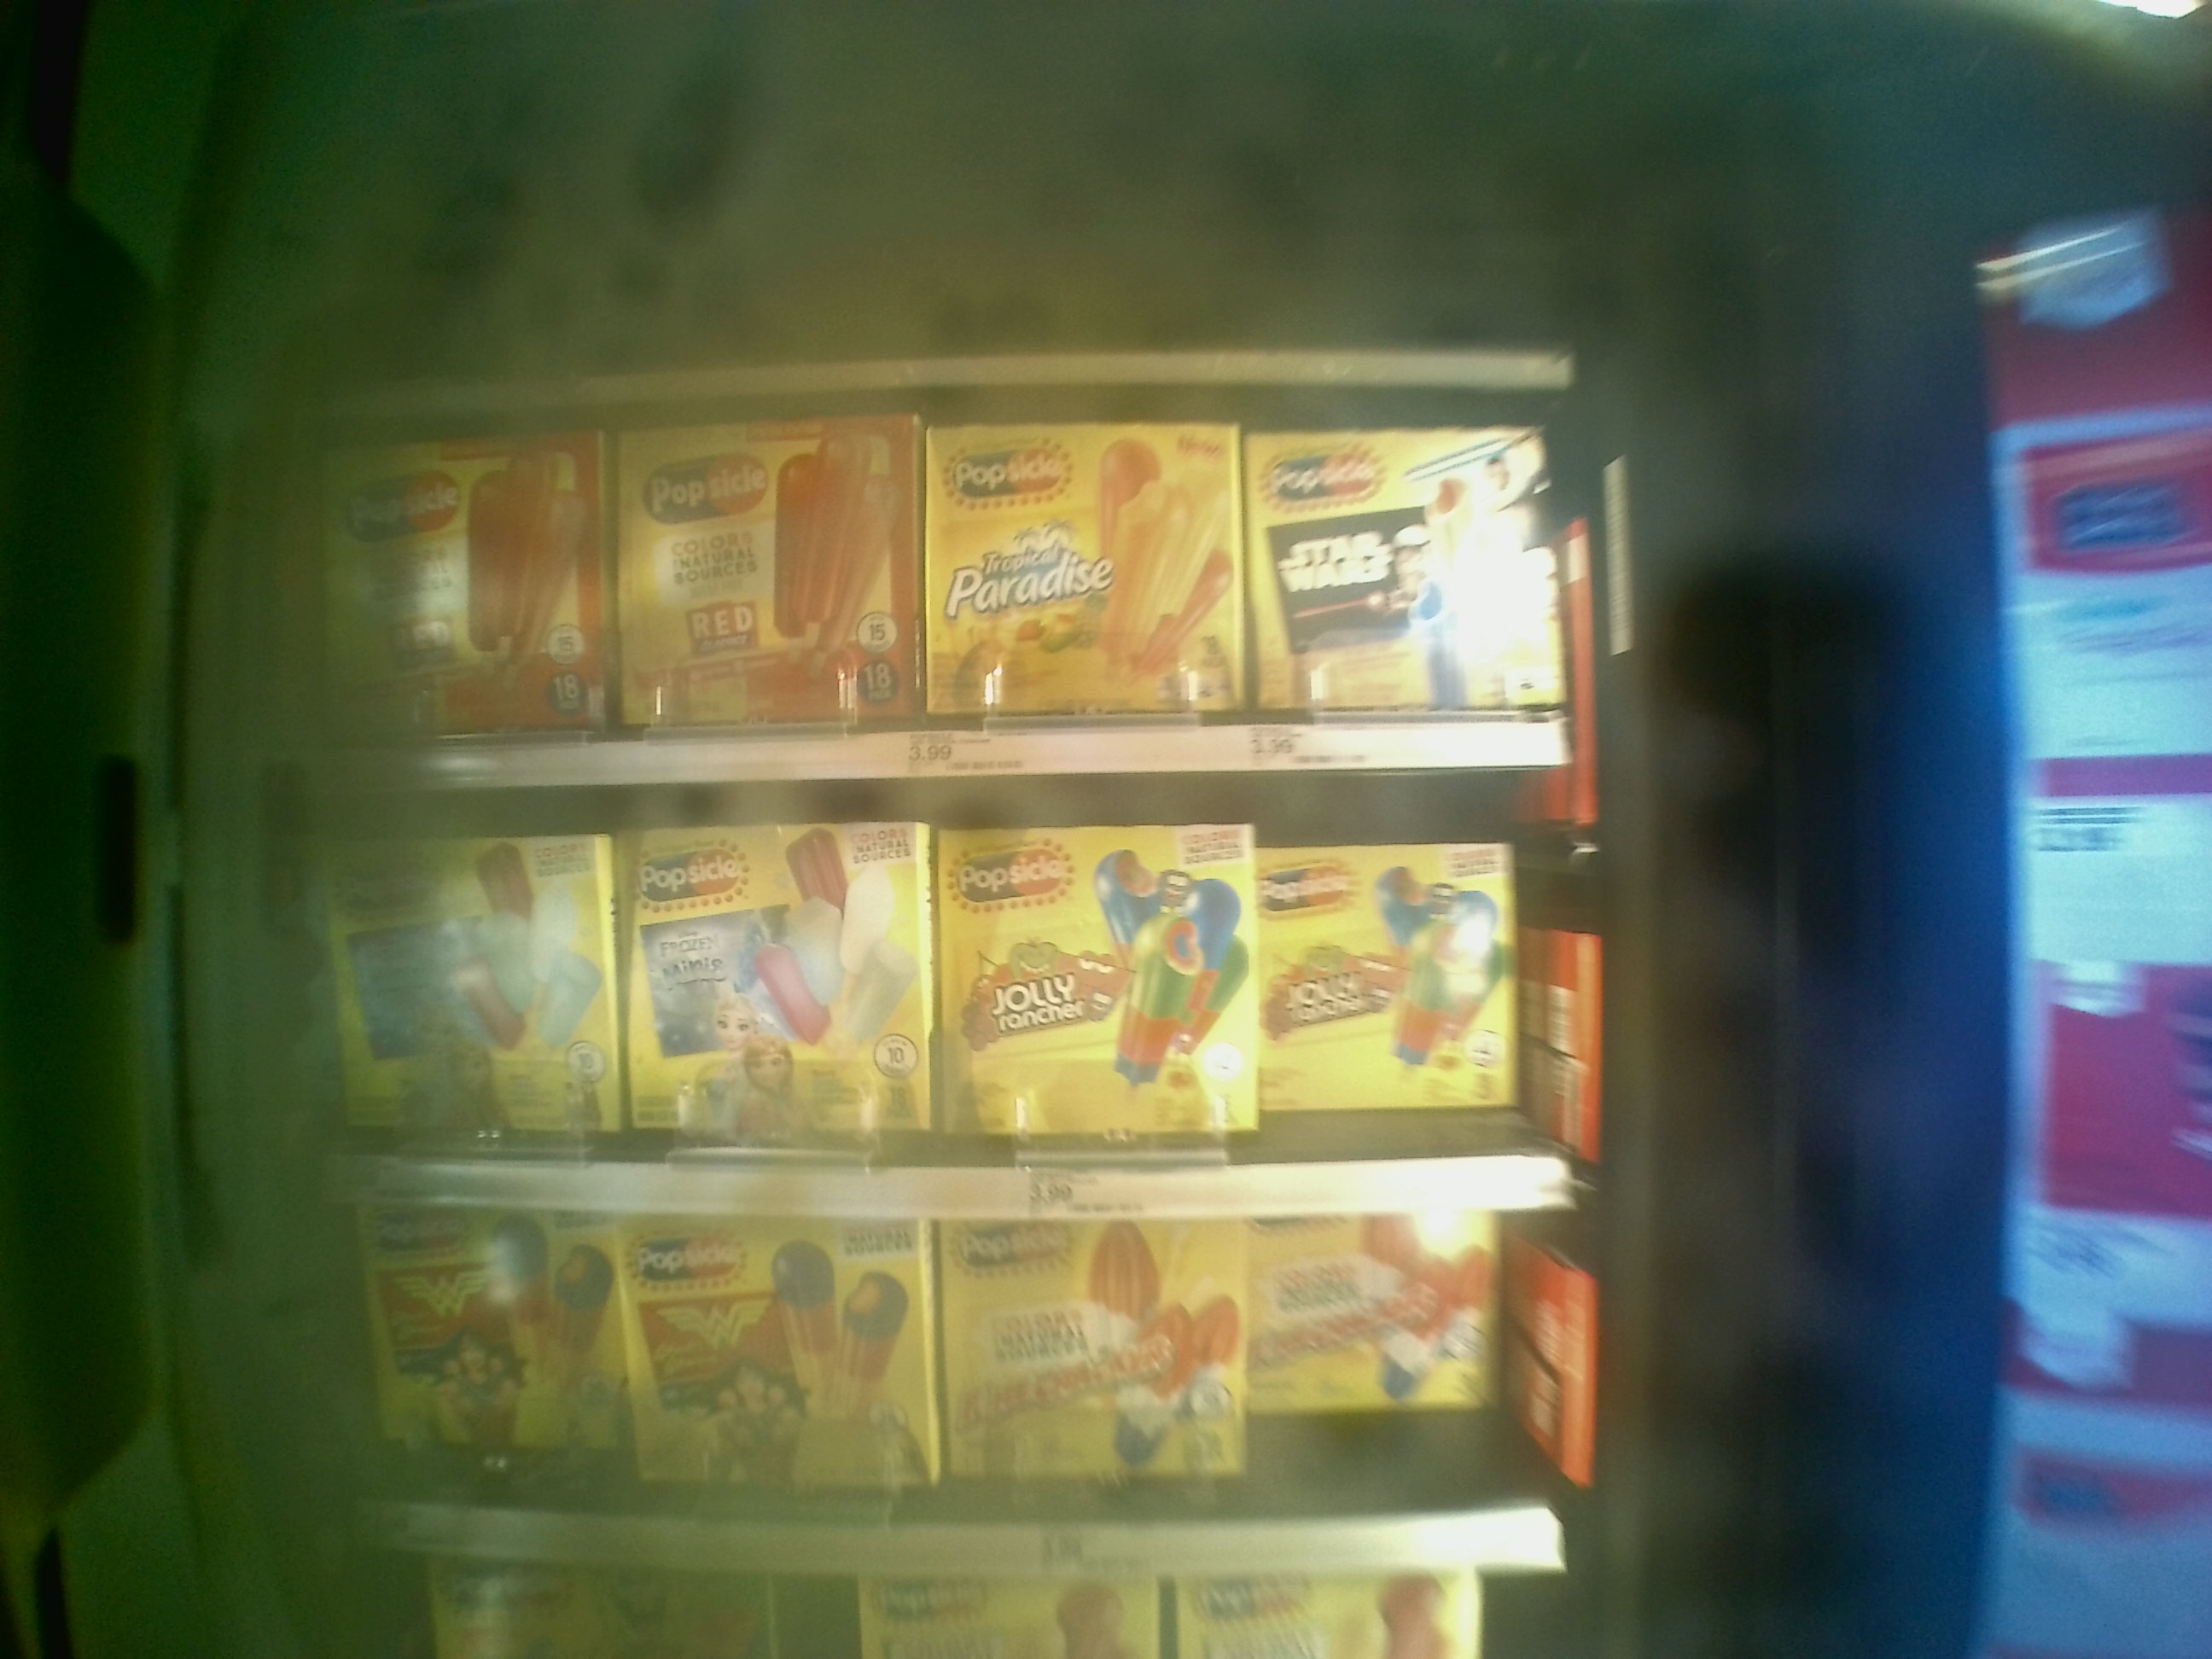shelf: (317, 802, 1594, 1213), (310, 396, 1576, 796), (352, 1215, 1562, 1586)
